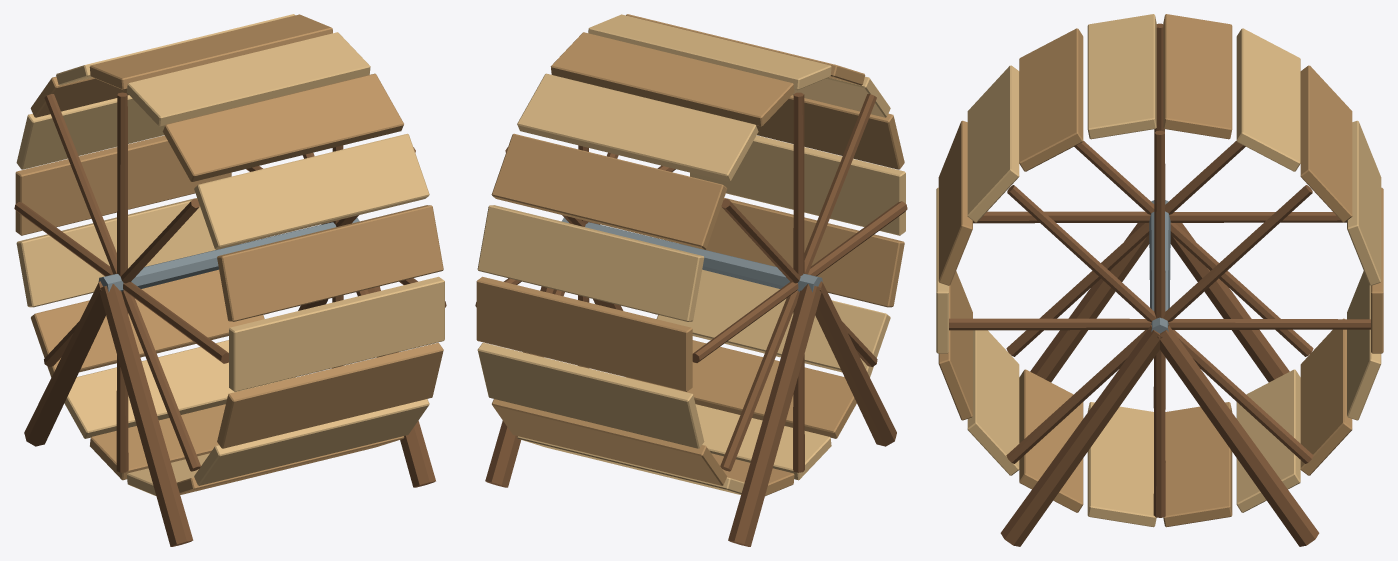
The model's file is CC_Treadmill.fbx.
3 views of the same model, side by side, from view 1: azimuth 30°, elevation 25°; view 2: azimuth 150°, elevation 25°; view 3: azimuth 270°, elevation 25° (orthographic).
Visible parts, largest first — view 1: Wheel plank.008, Wheel plank.007, Wheel plank.009, Wheel plank.006, Wheel plank.010, Wheel plank.005, Wheel plank, Wheel plank.017, Wheel plank.016, Wheel plank.015, Wheel plank.011, Wheel plank.004 (+14 smaller); view 2: Wheel plank.001, Wheel plank.002, Wheel plank, Wheel plank.003, Wheel plank.017, Wheel plank.004, Wheel plank.009, Wheel plank.010, Wheel plank.011, Wheel plank.012, Wheel plank.016, Wheel plank.005 (+14 smaller); view 3: Wheel plank.004, Wheel plank.005, Wheel plank.003, Wheel plank.006, Wheel plank.014, Wheel plank.013, Wheel plank.002, Wheel plank.007, Wheel stand.002, Wheel stand.003, Wheel plank.016, Wheel plank.011 (+19 smaller).
Part boxes in pixels (x1,y1,x2,y2): Wheel plank.008: [217, 205, 443, 321]; Wheel plank.007: [194, 133, 429, 249]; Wheel plank.009: [229, 276, 444, 391]; Wheel plank.006: [162, 73, 403, 181]; Wheel plank.010: [217, 342, 443, 448]; Wheel plank.005: [127, 32, 370, 126]; Wheel plank: [15, 135, 231, 235]; Wheel plank.017: [16, 198, 215, 307]; Wheel plank.016: [31, 269, 264, 377]; Wheel plank.015: [64, 340, 294, 438]; Wheel plank.011: [194, 399, 429, 485]; Wheel plank.004: [89, 14, 332, 89]; Wheel plank.001: [477, 205, 704, 321]; Wheel plank.002: [491, 133, 726, 249]; Wheel plank: [476, 276, 692, 391]; Wheel plank.003: [517, 73, 758, 181]; Wheel plank.017: [477, 342, 704, 448]; Wheel plank.004: [550, 32, 794, 126]; Wheel plank.009: [690, 135, 905, 235]; Wheel plank.010: [705, 198, 904, 307]; Wheel plank.011: [656, 269, 890, 376]; Wheel plank.012: [626, 340, 856, 438]; Wheel plank.016: [492, 399, 727, 485]; Wheel plank.005: [588, 14, 831, 89]; Wheel plank.004: [1163, 14, 1232, 139]; Wheel plank.005: [1087, 14, 1156, 139]; Wheel plank.003: [1236, 28, 1300, 171]; Wheel plank.006: [1019, 28, 1083, 171]; Wheel plank.014: [1163, 402, 1232, 527]; Wheel plank.013: [1087, 402, 1156, 527]; Wheel plank.002: [1300, 65, 1352, 222]; Wheel plank.007: [967, 65, 1019, 222]; Wheel stand.002: [1000, 325, 1162, 546]; Wheel stand.003: [1157, 325, 1319, 546]; Wheel plank.016: [1300, 318, 1352, 475]; Wheel plank.011: [967, 330, 1019, 475].
Bounding box in the file's own units: 2.49 × 3.72 × 3.6.
